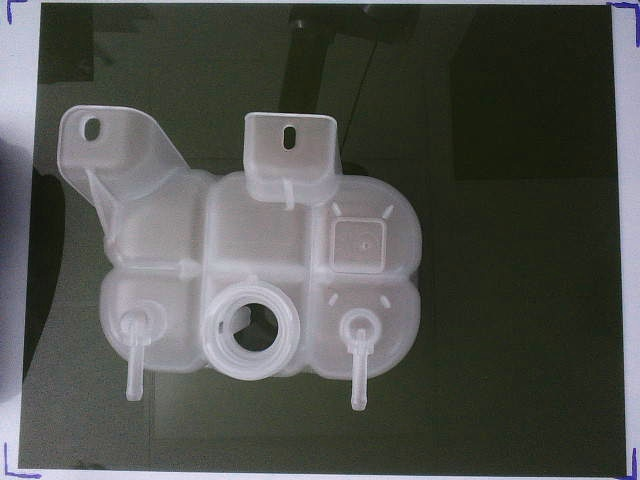reservoir_transparent_Top: (57, 105, 422, 411)
